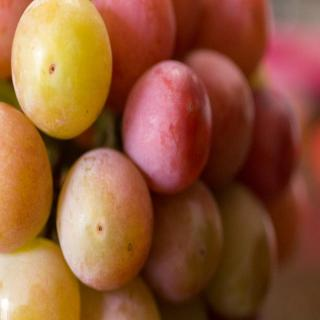tomato: (112, 51, 211, 192)
